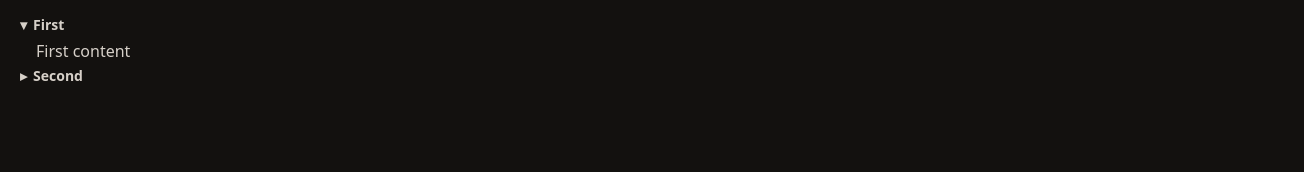
Test: DetailCollapse › opens and closes sections independently
Click the button "▸ Second" at (58, 75), box [12,63,1292,90]
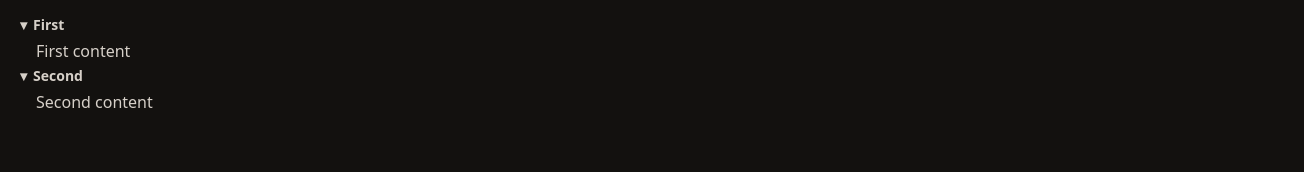
Click the button "▾ First" at (49, 24), box [12,12,1292,39]
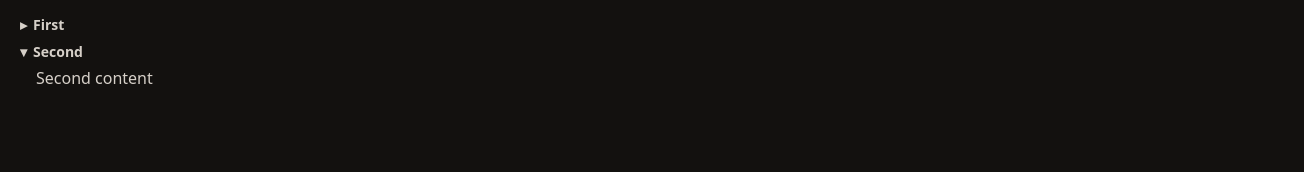
Expected: the text "Second content" is shown, [36,67,153,89]
Expected: the text "First content" is gone
